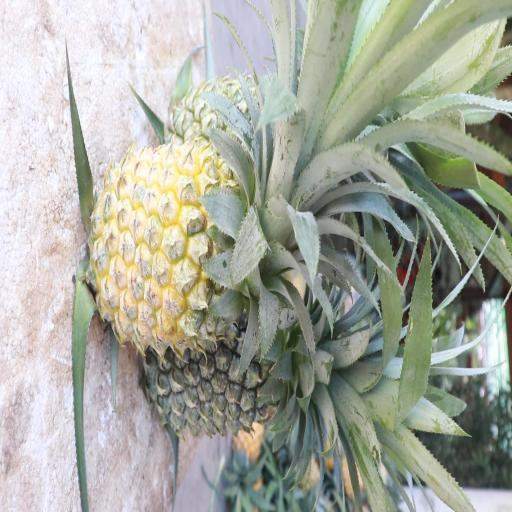Pineapple - v8 v1: (92, 142, 304, 350)
